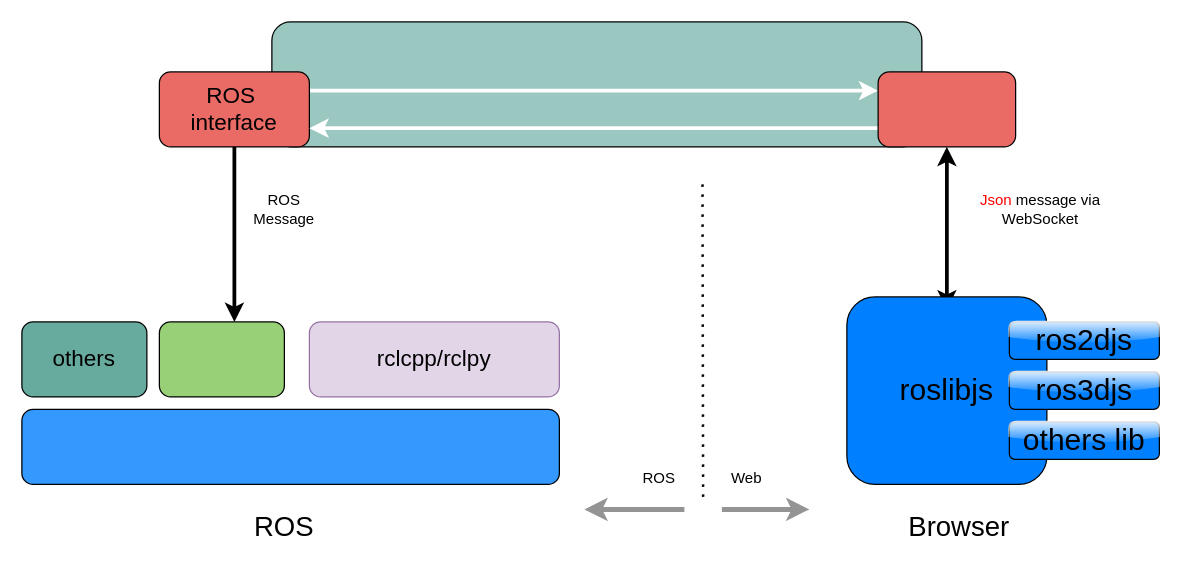
The diagram is 1181 pixels wide and 569 high, and some of its shapes have lost their labels. The shapes that lost their labels are listed below. From the top down, each one's centre as x and y in pixels, then its label:
At point 596,84: "ros2-web-bridge".
At point 946,109: "Web interface".
At point 221,359: "rclnodejs".
At point 290,446: "rcl interface to Ros2".
